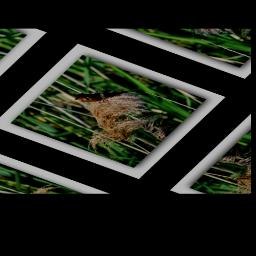Swallow: (69, 76, 133, 114)
